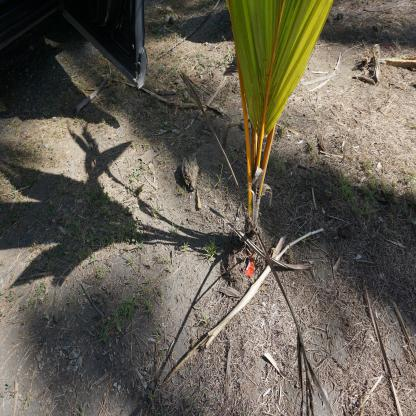plastik: (245, 250, 257, 279)
